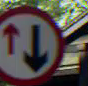Two way: (1, 7, 70, 85)
